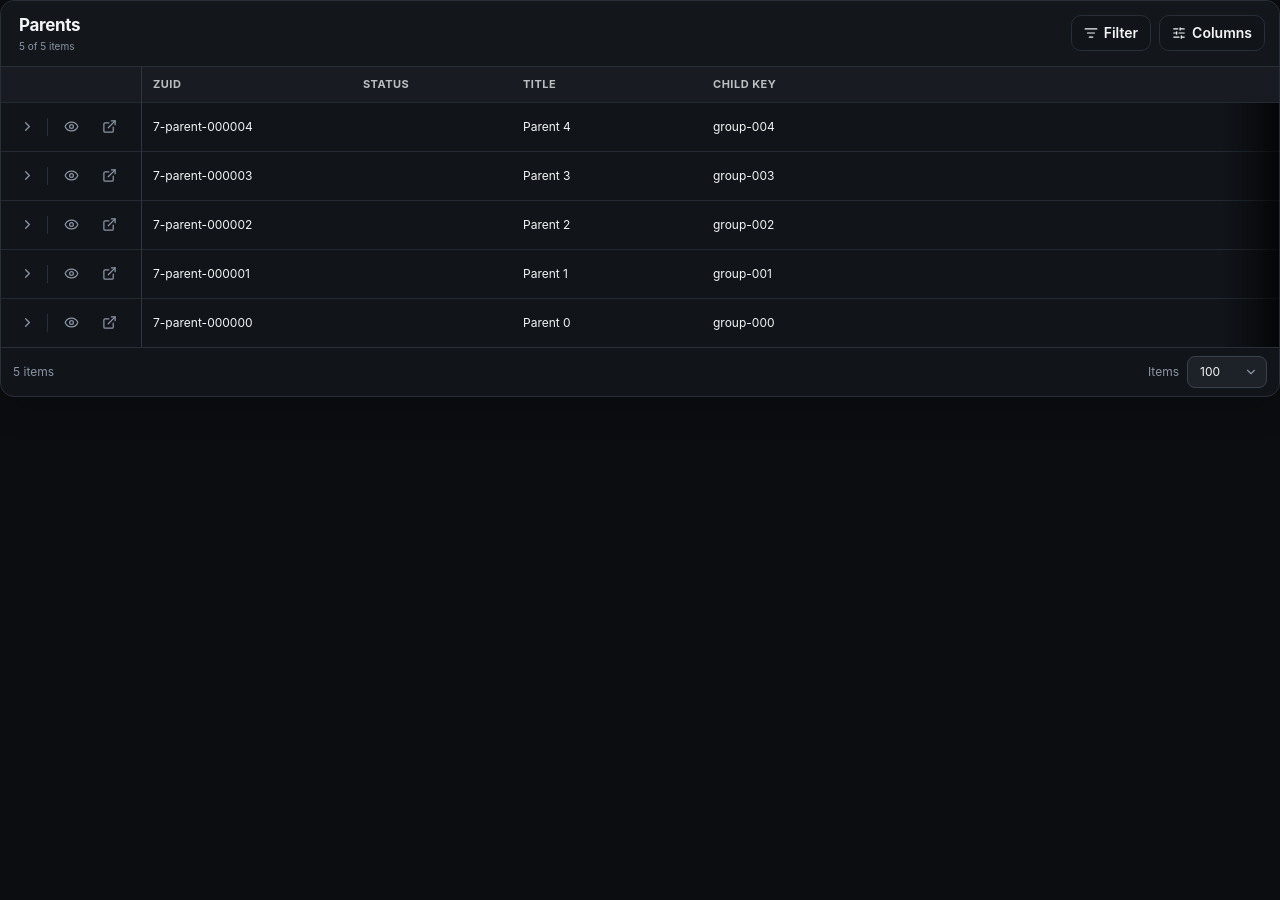
Test: recursive collection tables › preserves nested expansion while a filter temporarily hides every row
This screenshot has width=1280, height=900.
Click the button named "Expand relationships for 7-parent-000000": (27, 323) [11,307,43,339]
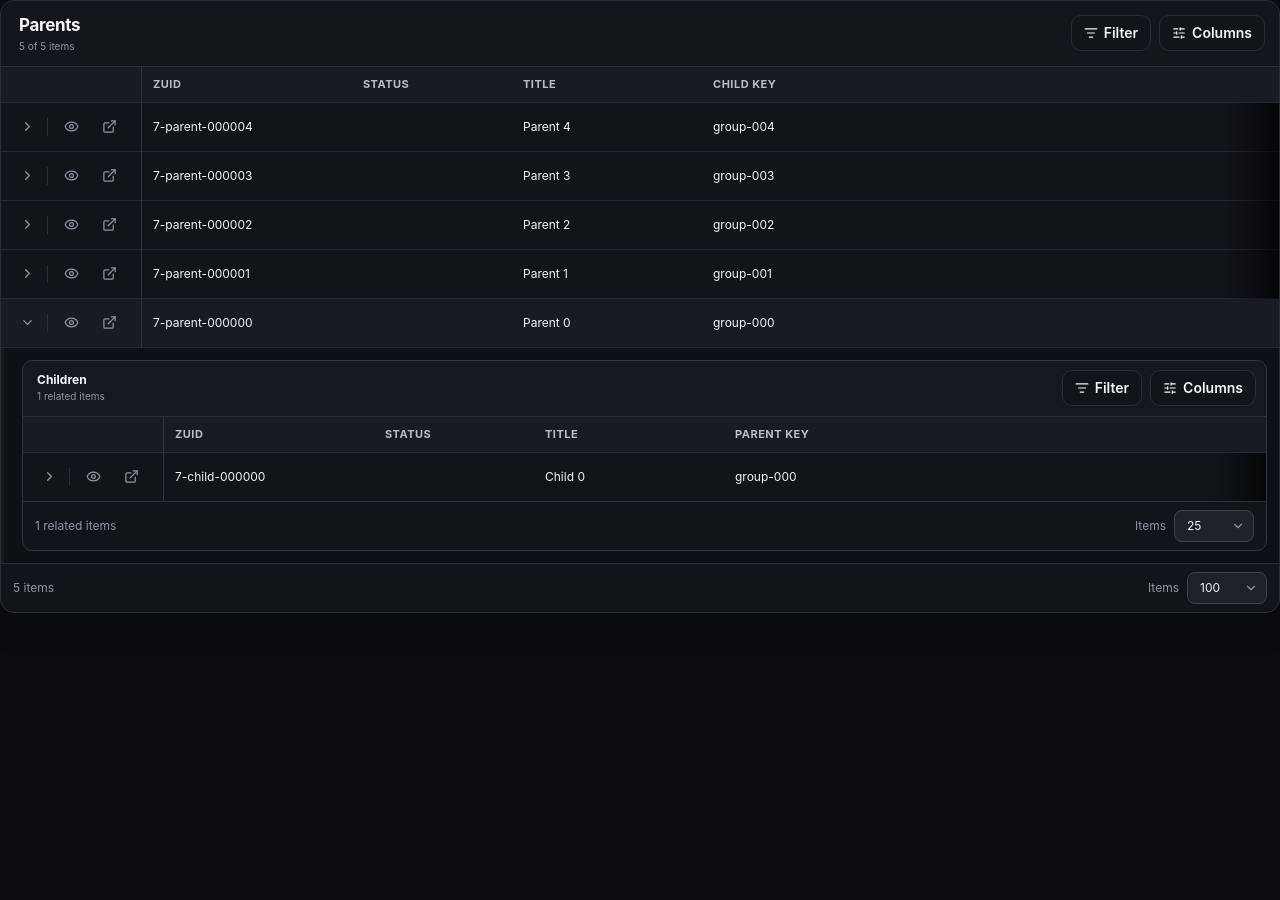
Click the button named "Expand relationships for 7-child-000000": (49, 477) [33,461,65,493]
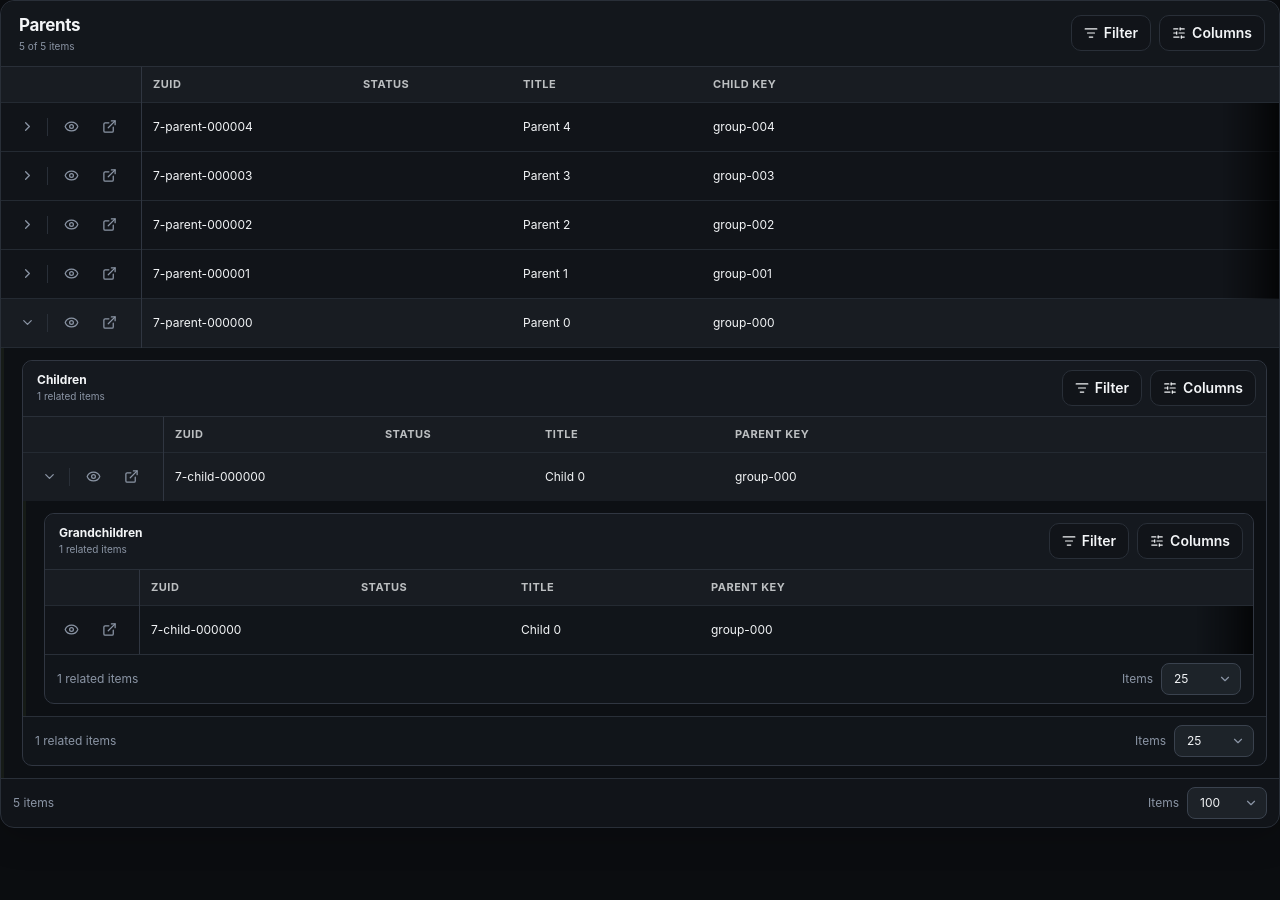
Result: the element named "Grandchildren related items" is shown at [44,513,1254,704]
Click the button with aria-label "Add Children filter": (1102, 388) [1062,370,1142,406]
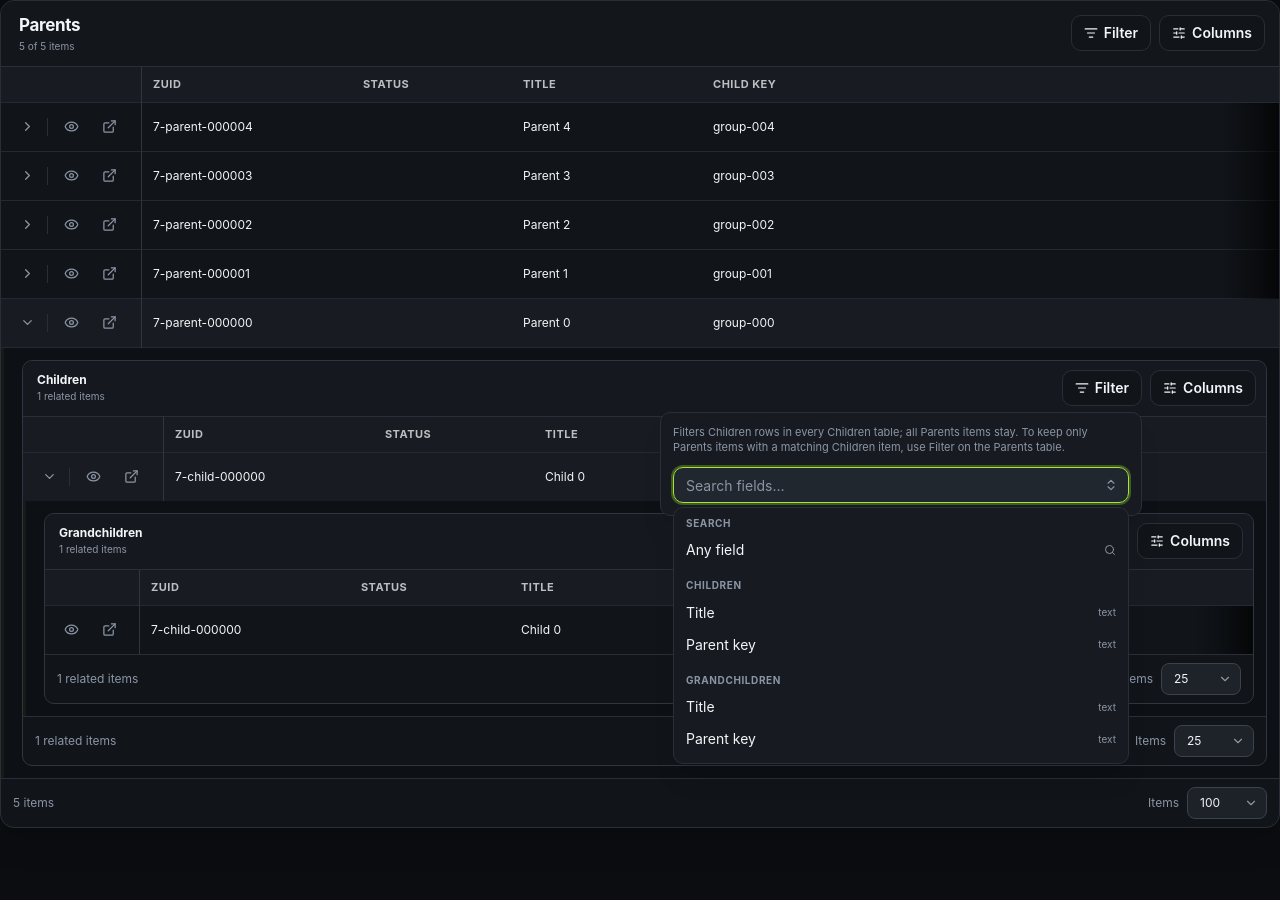
Result: the text "Filters Children rows in every Children table; all Parents items stay. To keep only Parents items with a matching Childr" is shown at [673,425,1088,454]
Press Enter in the dropdown with placeholder "Search fields…", box [673,467,1129,503]
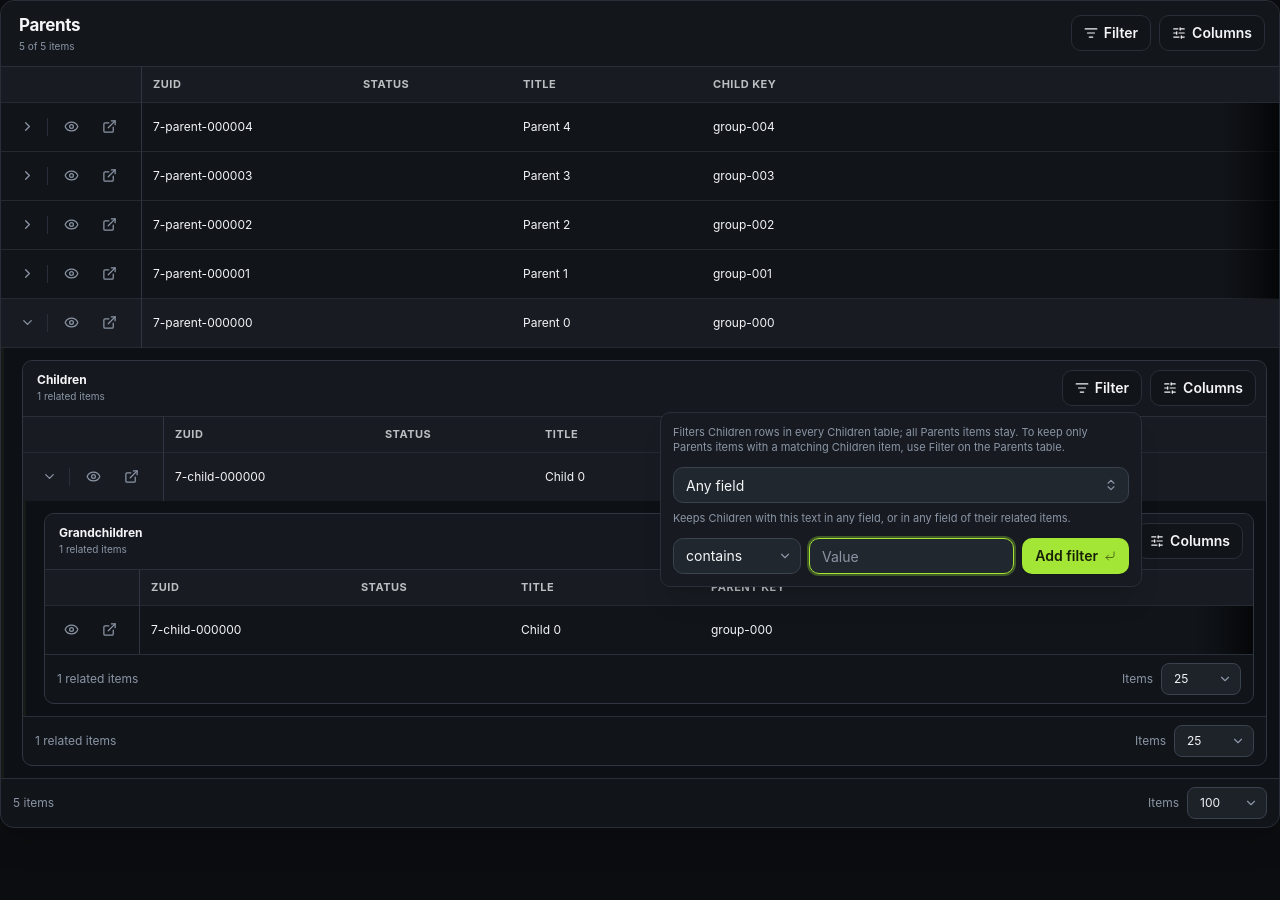
In the field named "Children table filter value": (912, 556) [809,538,1014,574], type "no matching child"
Press Enter in the field named "Children table filter value", box [809,538,1014,574]
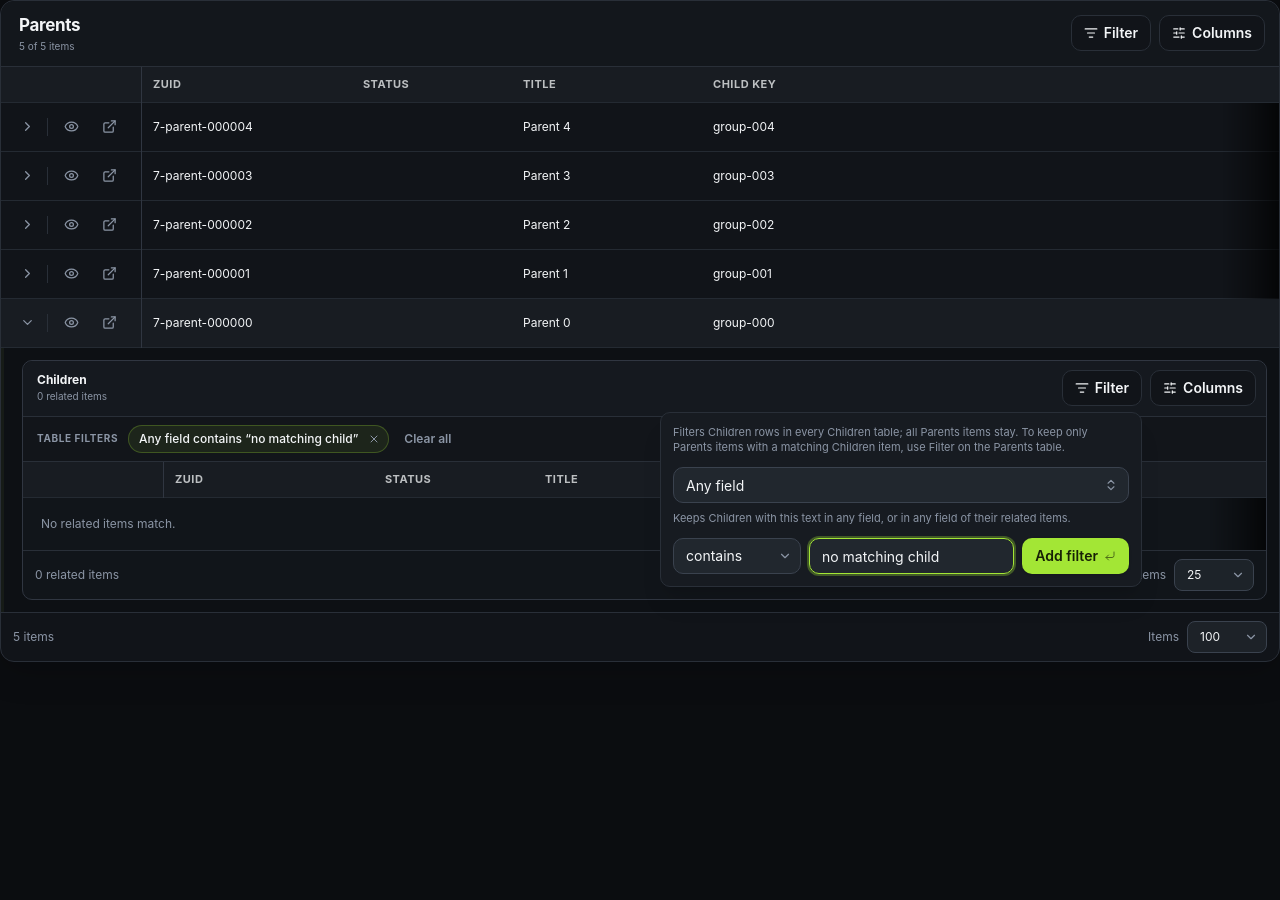
Result: the text "No related items match." is shown at [41,516,176,531]
Click the button named "Remove filter Any field contains “no matching child”": (374, 439) [362,427,386,451]
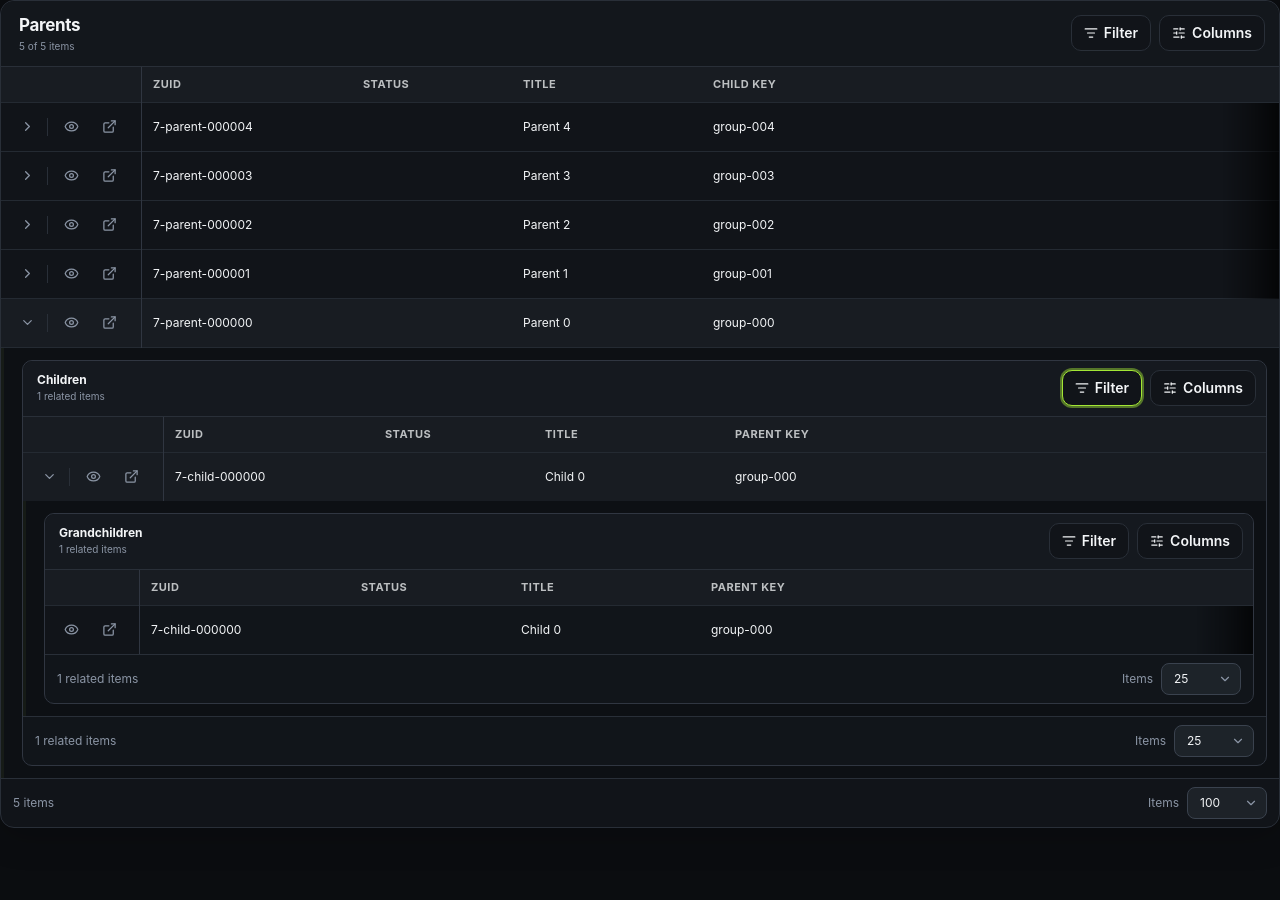
Result: the element named "Grandchildren related items" is shown at [44,513,1254,704]
